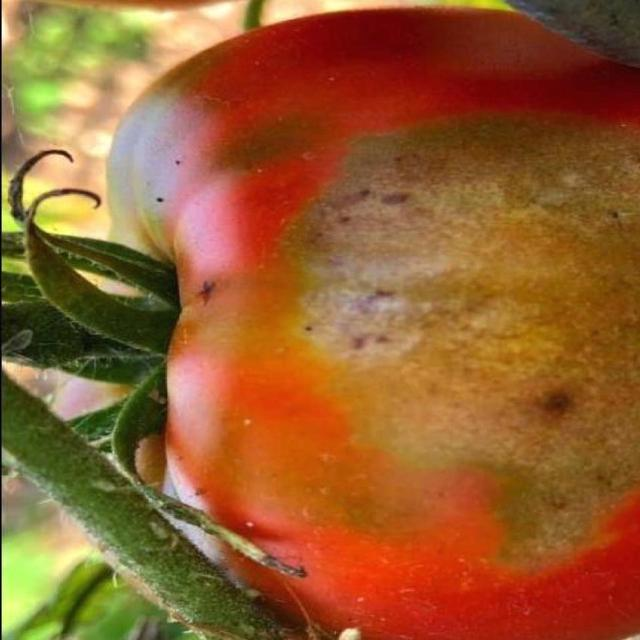Sunscald Fruit: (158, 74, 427, 374)
